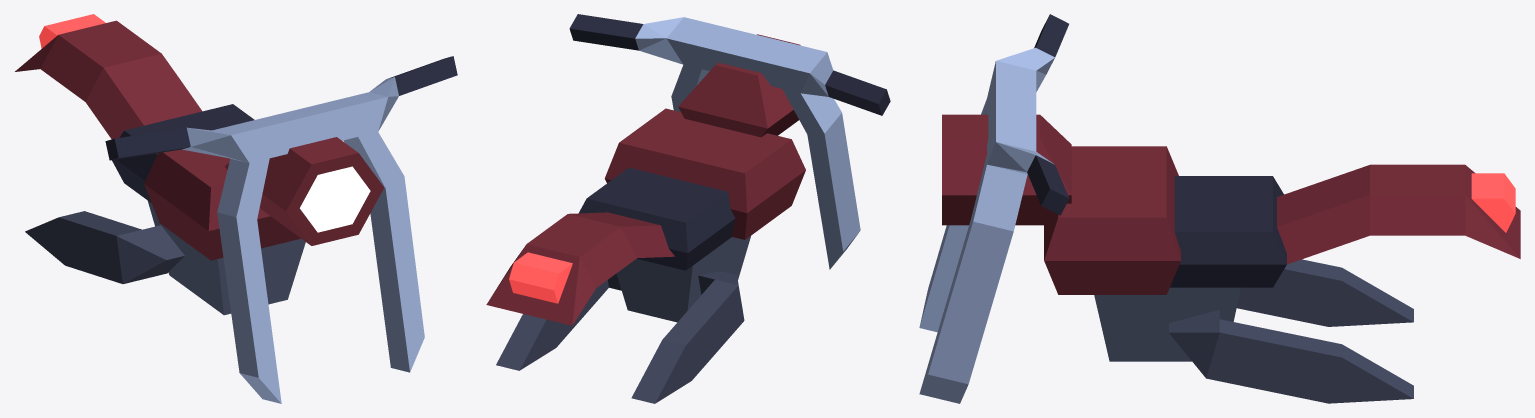
File: Motorcycle.fbx
3 views of the same model, side by side, from view 1: azimuth 30°, elevation 25°; view 2: azimuth 150°, elevation 25°; view 3: azimuth 270°, elevation 25° (orthographic). The views are drawn at different scales.
Visible parts, largest first — view 1: body; view 2: body; view 3: body.
Part boxes in pixels (x1,y1,x2,y2): body: [15, 14, 457, 403]; body: [486, 14, 890, 403]; body: [919, 14, 1520, 403].
Size of the model in its own units: 146 by 105 by 212.
